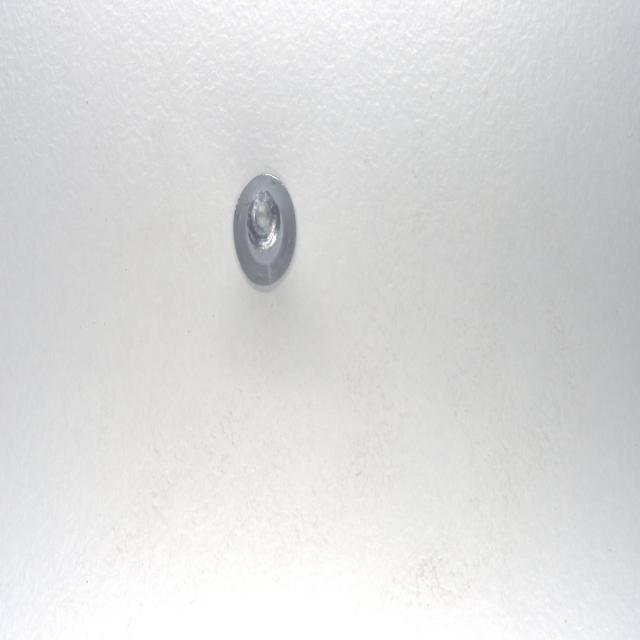Screw: (233, 172, 296, 285)
